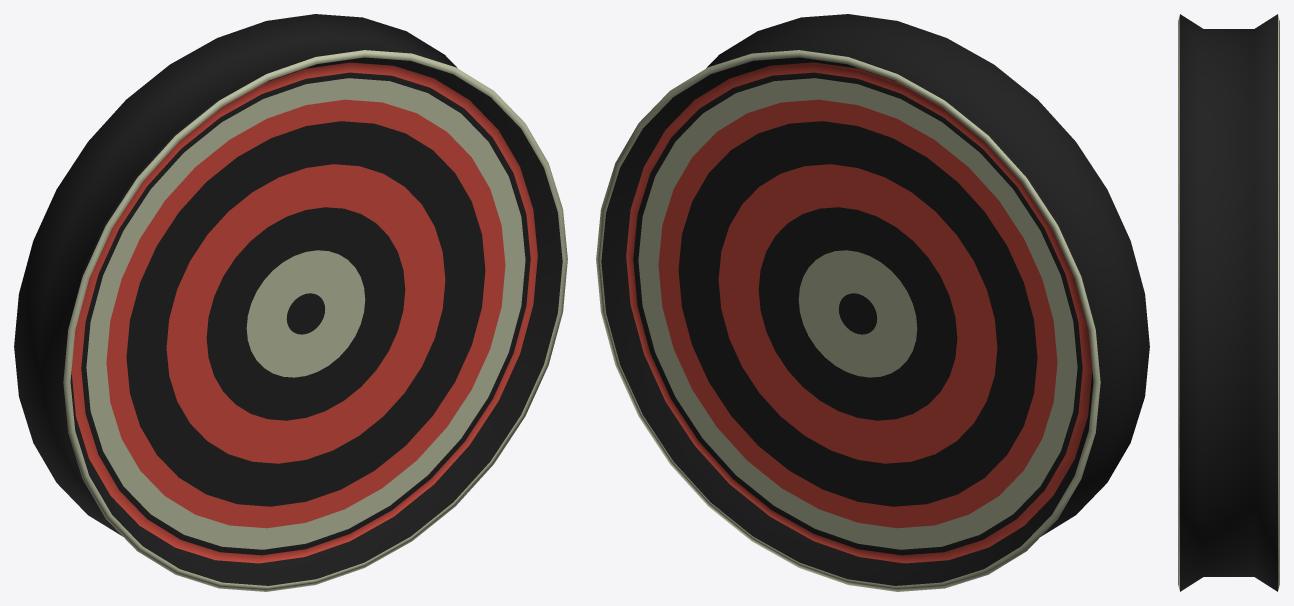
The model's file is target.fbx.
The picture shows the model from 3 angles, left to right: view 1: azimuth 30°, elevation 25°; view 2: azimuth 150°, elevation 25°; view 3: azimuth 270°, elevation 25°; orthographic projection.
Parts seen in each view (by area): view 1: Circle; view 2: Circle; view 3: Circle.
Part boxes in pixels (left/top/right/bottom): Circle: left=14, top=14, right=567, bottom=591; Circle: left=596, top=14, right=1149, bottom=591; Circle: left=1178, top=14, right=1279, bottom=591.
Size of the model in its own units: 235 by 235 by 41.36.
